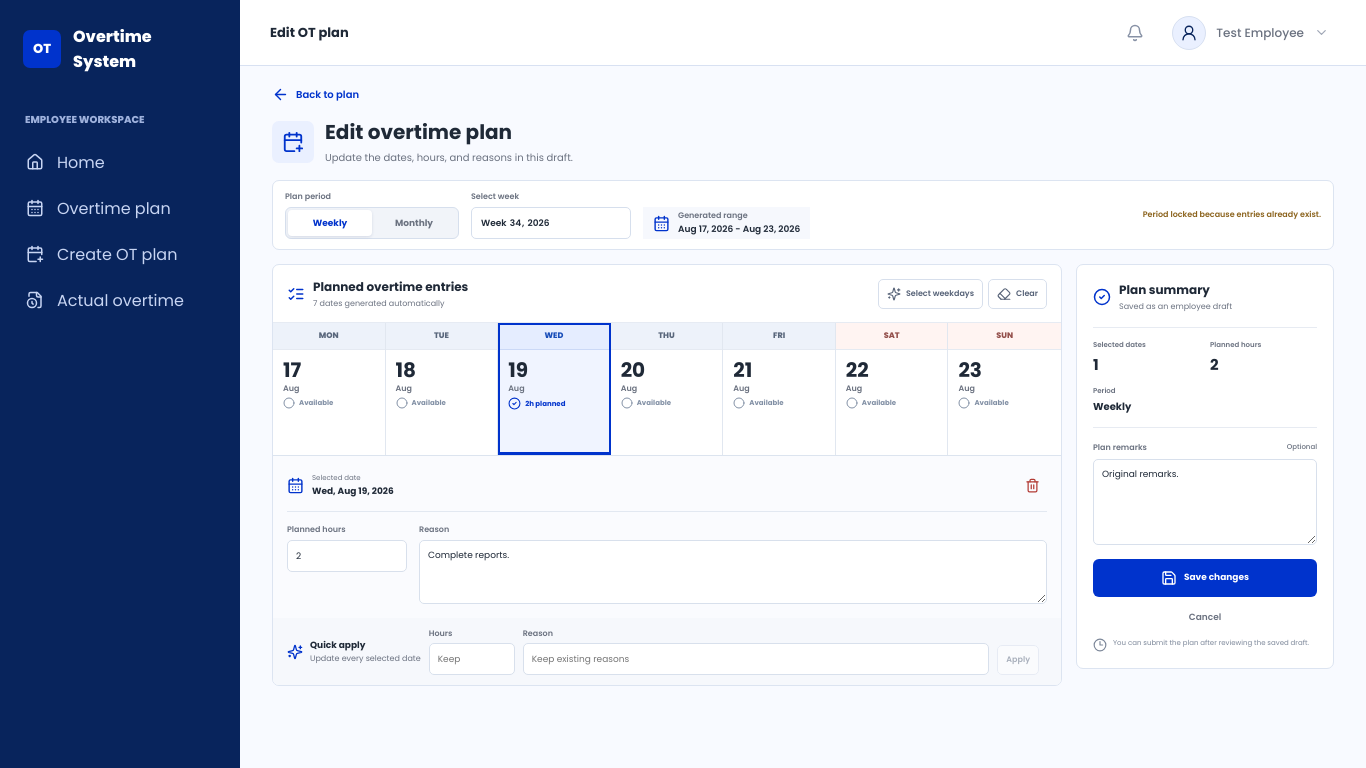
it: role-based route protection › prevents an atomic draft edit from overwriting a newer plan version
Expected: the heading "Edit overtime plan" is shown, [325, 118, 512, 146]
Replace the text in the text box labelled "Plan remarks Optional" with "Updated remarks." at (1205, 502), box [1093, 459, 1317, 544]
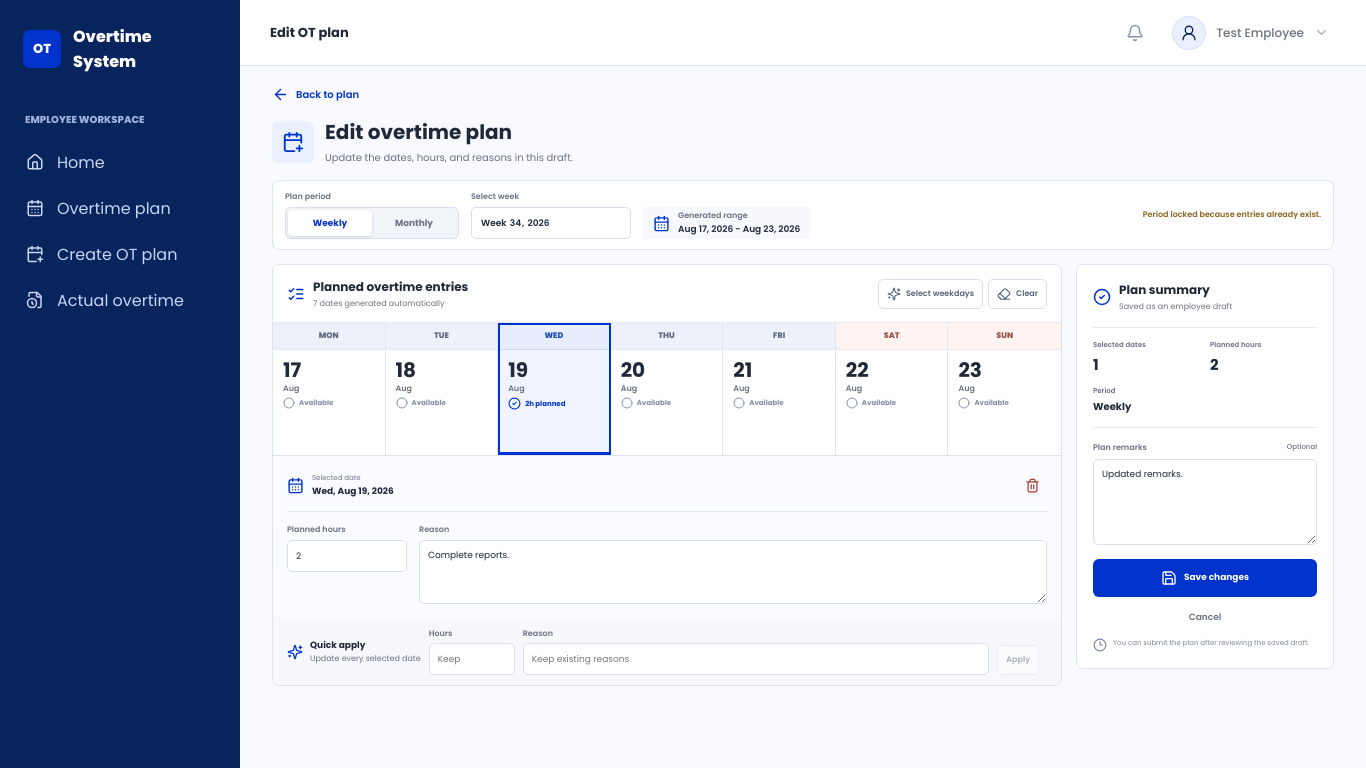
Click the button "Save changes" at (1205, 578), box [1093, 558, 1317, 596]
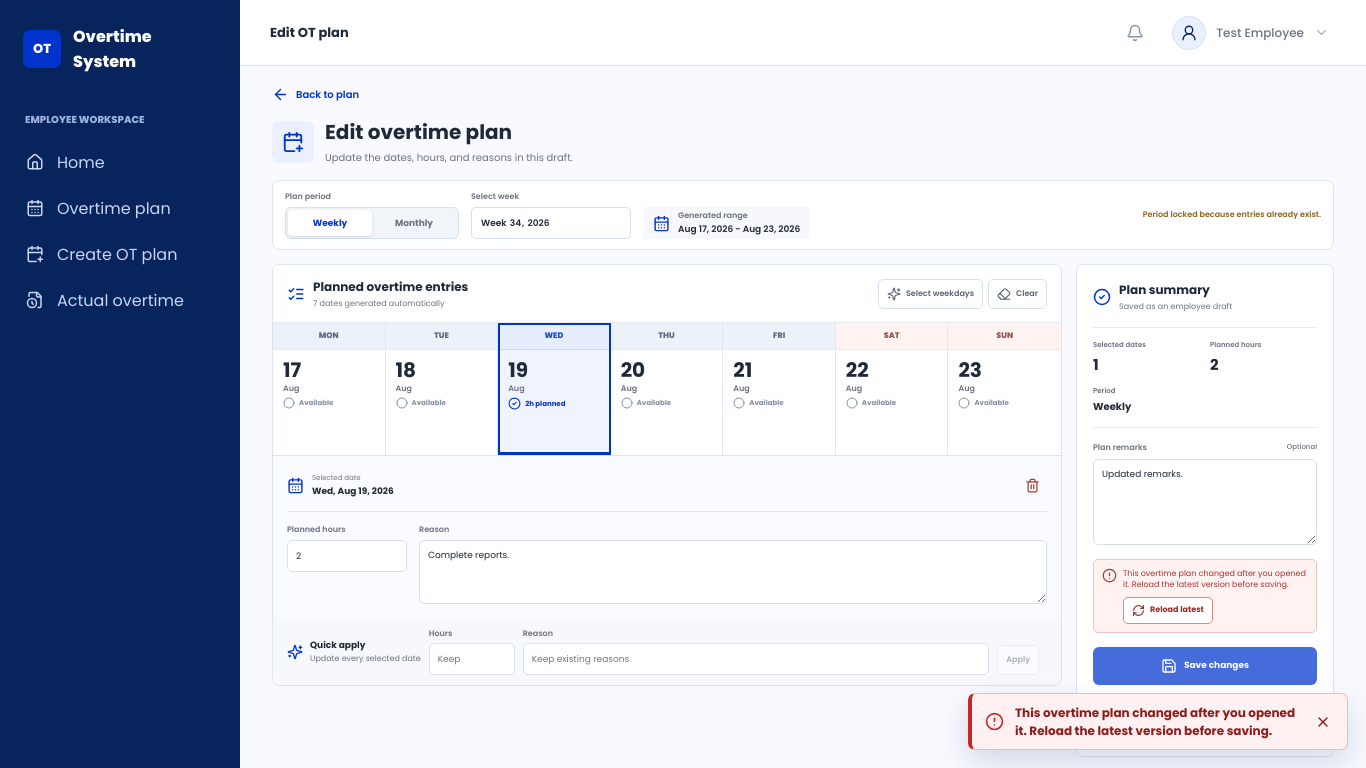
Expected: the button "Reload latest" is shown, [1123, 597, 1213, 624]
Expected: the text "changed after you opened it" is shown 2 times, [1123, 568, 1308, 591]; [1015, 704, 1298, 739]
